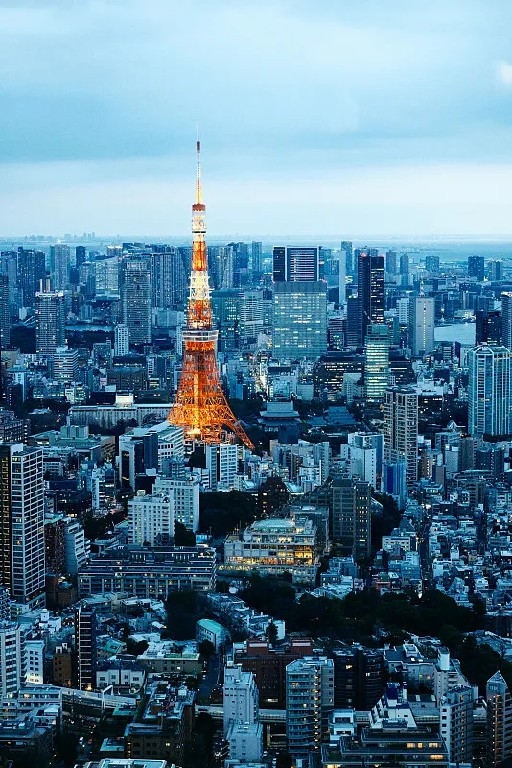Tokyo: (161, 118, 256, 451)
